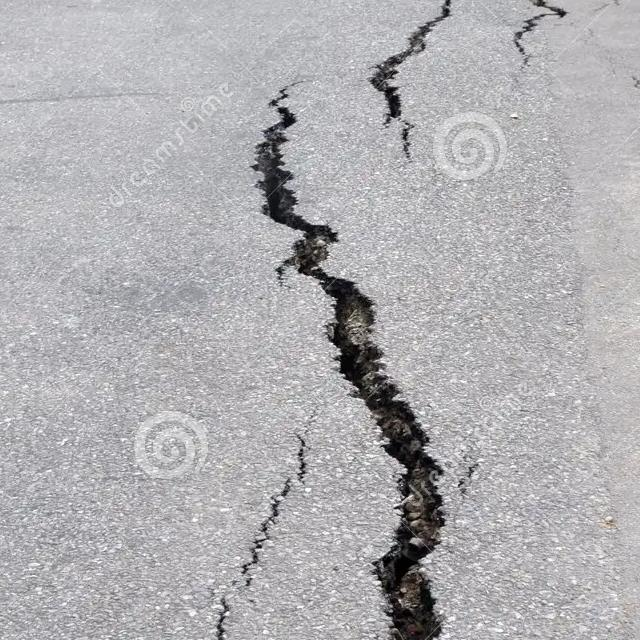retak_memanjang: (171, 61, 435, 640), (338, 0, 468, 224), (455, 0, 625, 75)
